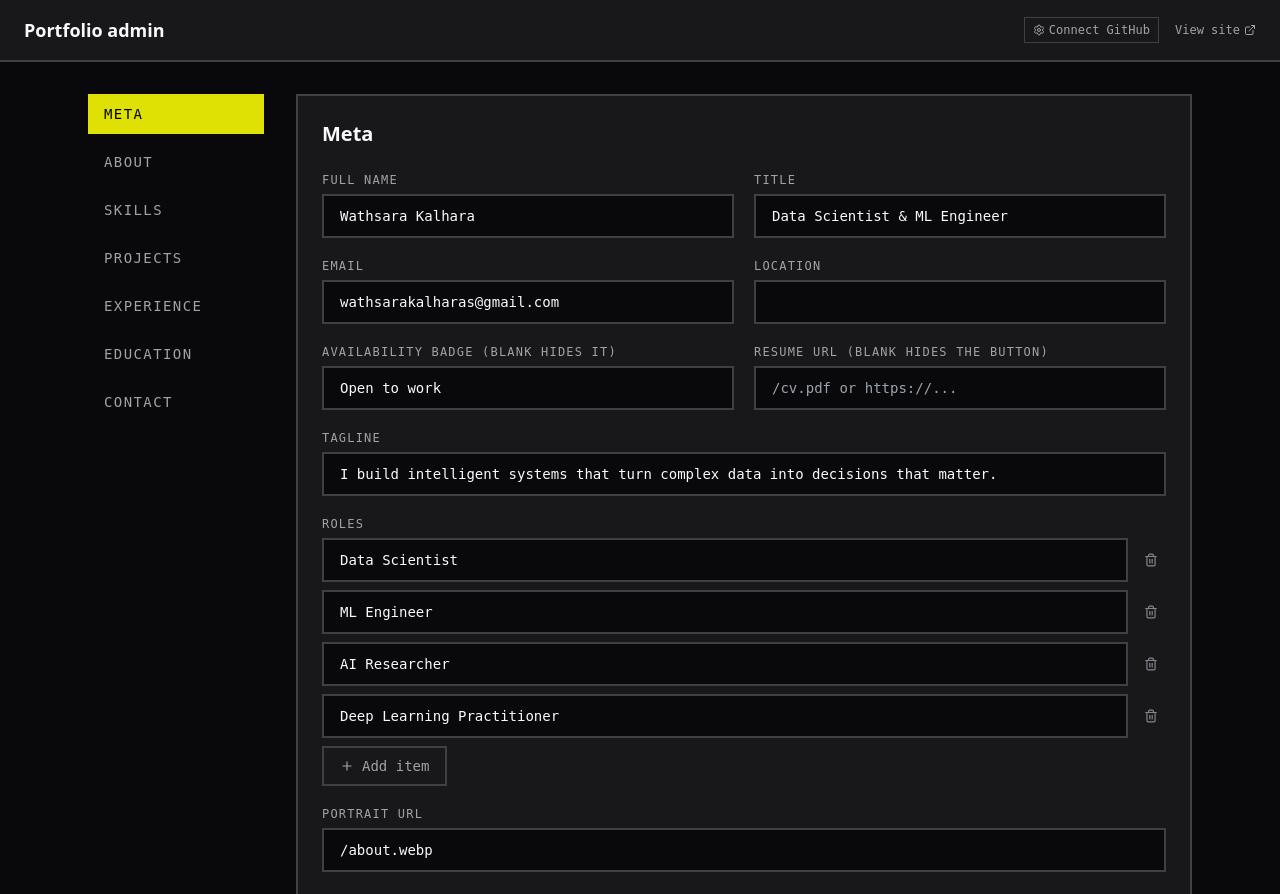
it: Admin › refuses to save invalid data and lists the problem
Clear the field labelled "Full name" at (528, 216), box [322,194,734,238]
(page scrolled)
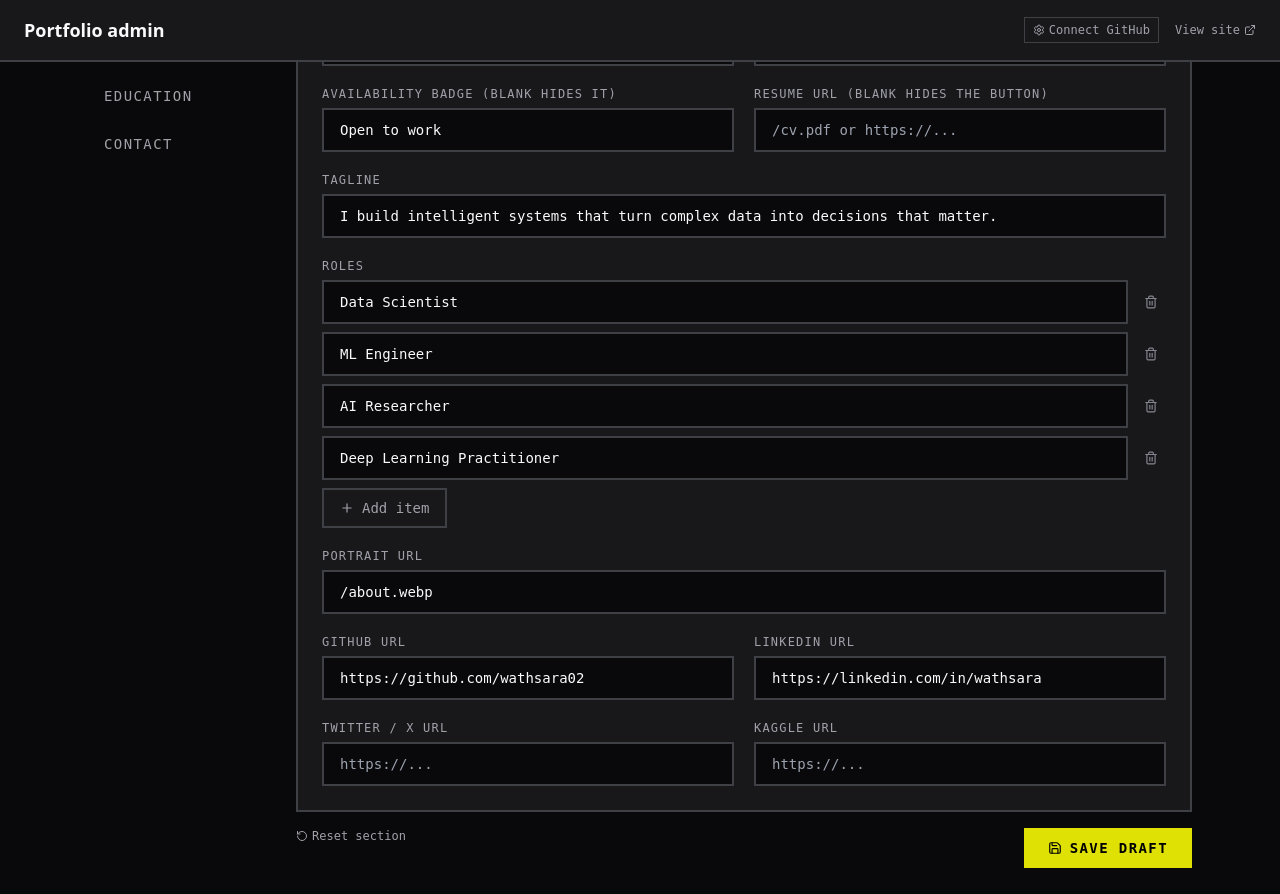
Click the button "Save draft" at (1108, 848), box [1024,828,1192,868]
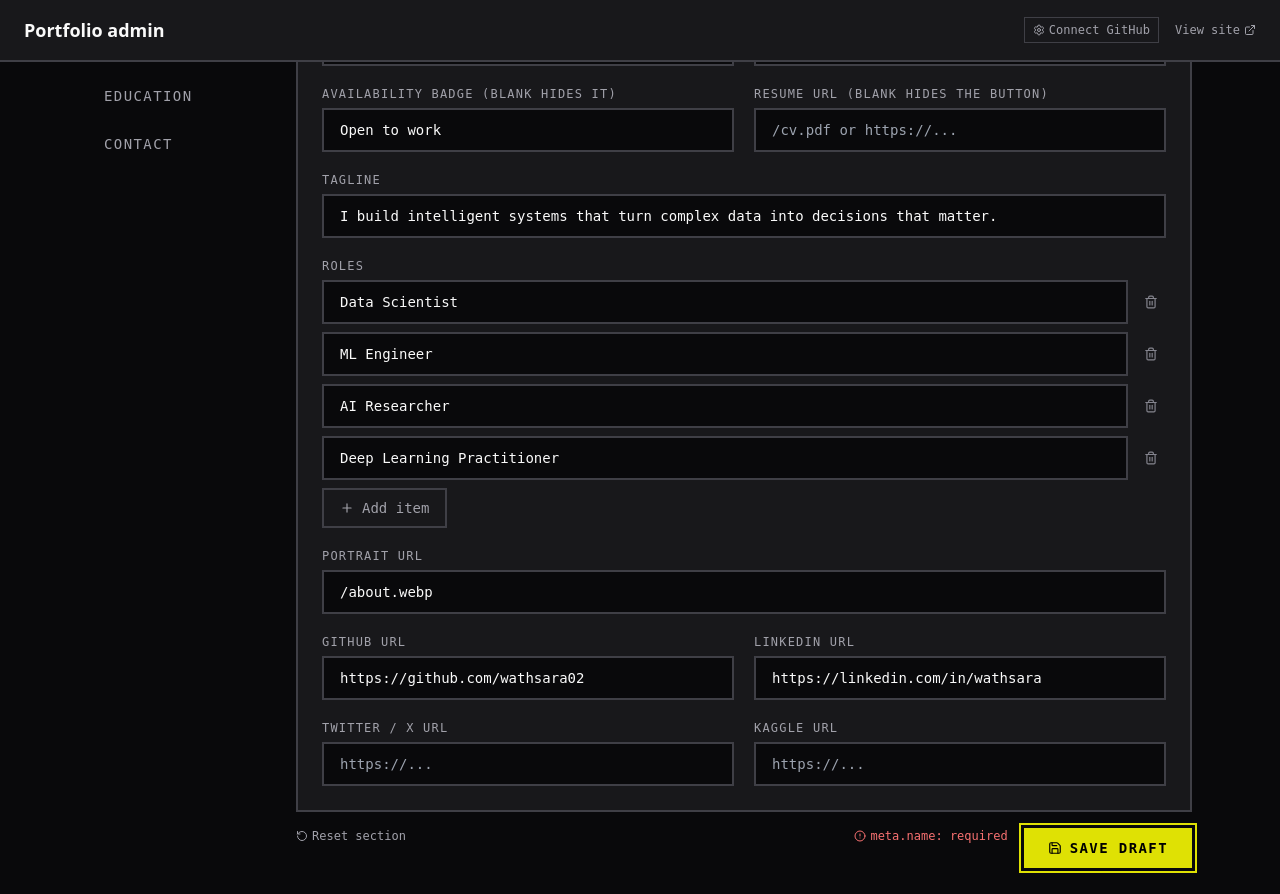
Now the message reads "meta.name: required", box [870,829,1008,843]
